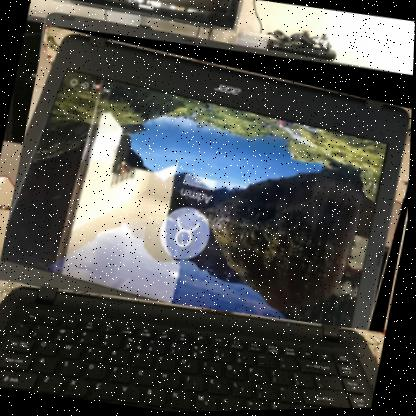Normal: (0, 18, 414, 343)
